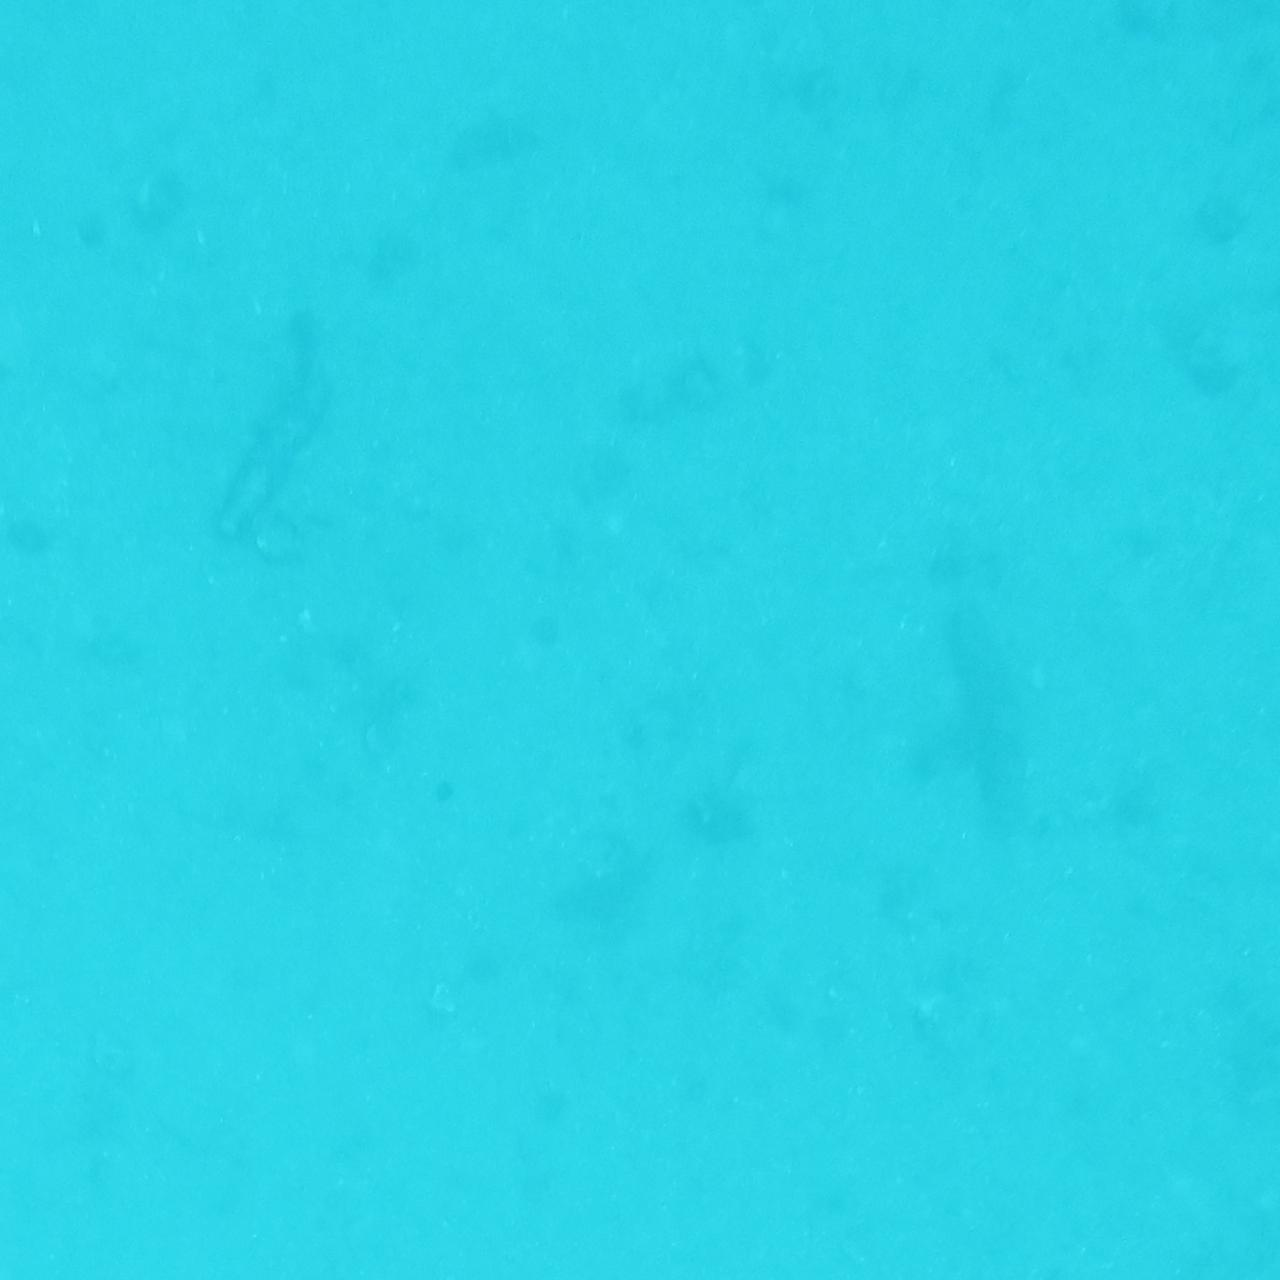Holothuria tubulosa: (211, 300, 352, 572), (942, 576, 1055, 851)
